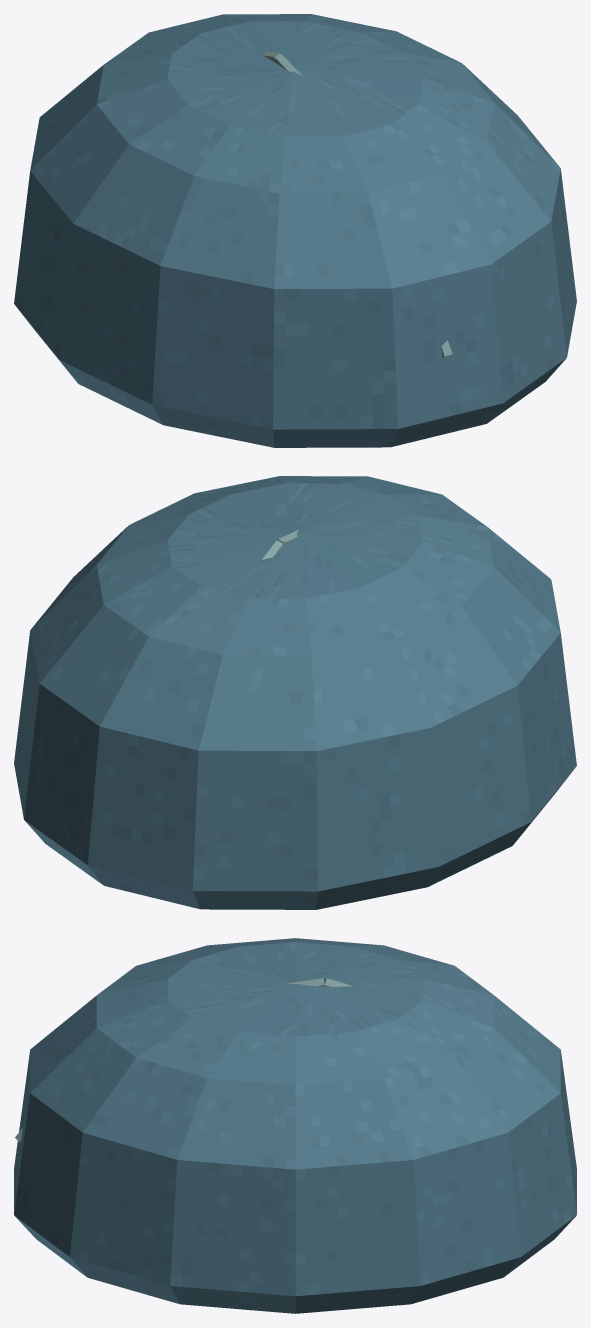
File: swim_cap.glb
3 renders of one model, top to bottom at view 1: azimuth 30°, elevation 25°; view 2: azimuth 150°, elevation 25°; view 3: azimuth 270°, elevation 25°, orthographic. The views are drawn at different scales.
Parts seen in each view (by area): view 1: block_rubber swim cap; view 2: block_rubber swim cap; view 3: block_rubber swim cap.
Part boxes in pixels (x1,y1,x2,y2): block_rubber swim cap: [14, 14, 576, 447]; block_rubber swim cap: [14, 476, 576, 909]; block_rubber swim cap: [14, 938, 576, 1313].
Bounding box in the file's own units: 0.1392 × 0.0748 × 0.1588.
Materials: 1 (1 with a texture image).
